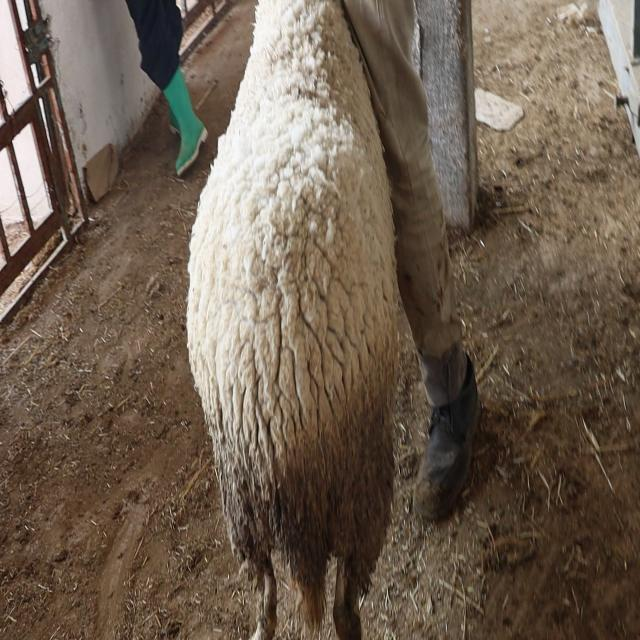Score_5: (187, 0, 398, 639)
